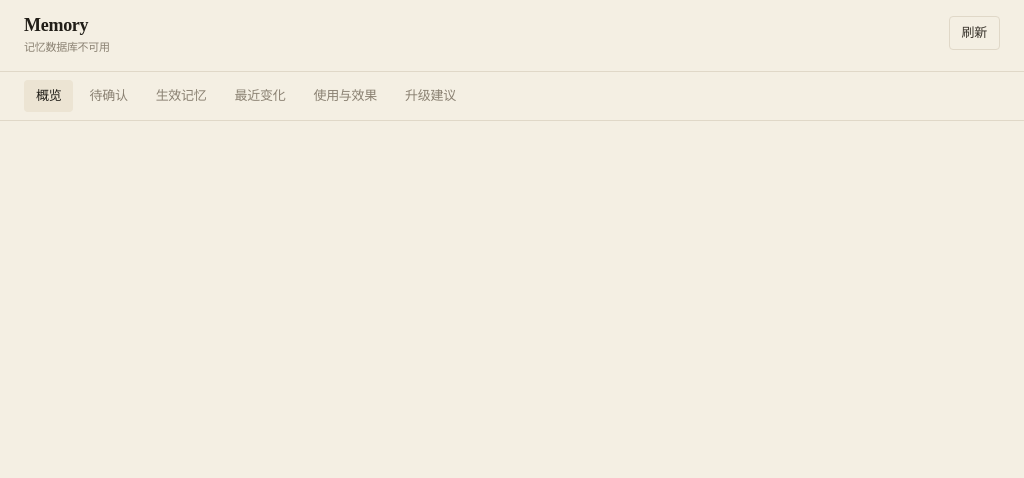
Scenario: MemoryPage › publishes a draft only after the user presses approve
Click the button "升级建议": (430, 96) [393,80,468,112]
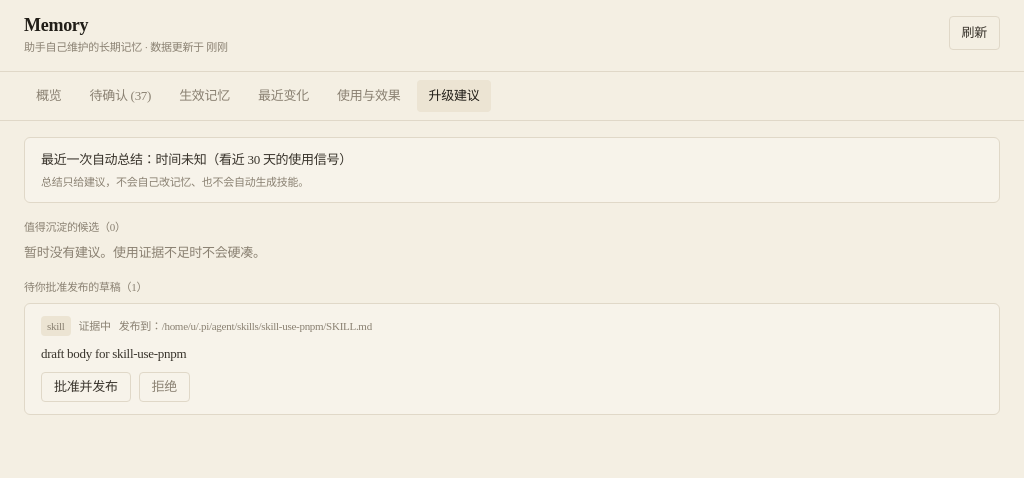
Expected: the text "draft body for skill-use-pnpm" is shown, [41,346,186,361]
Click the button "批准并发布": (86, 387) [41,372,131,402]
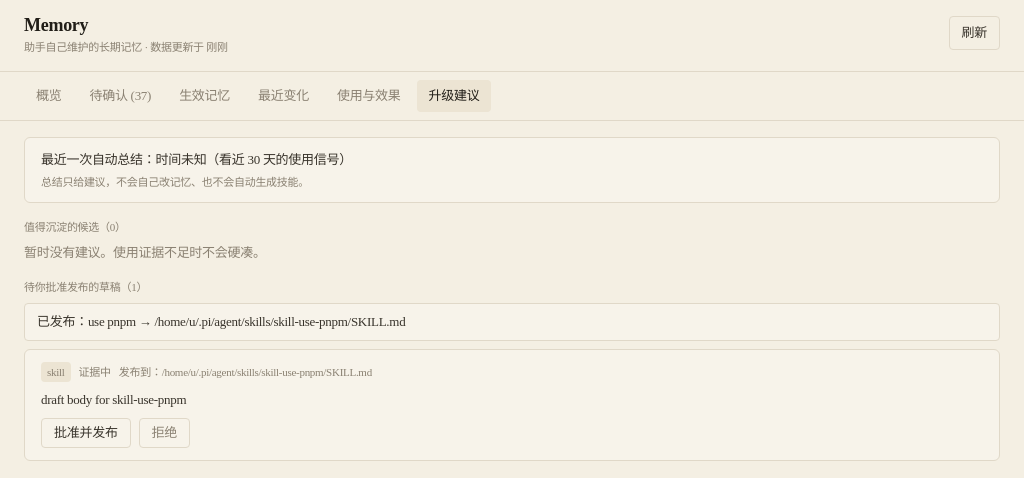
Expected: the text "已发布：use pnpm" is shown, [37,314,405,329]
